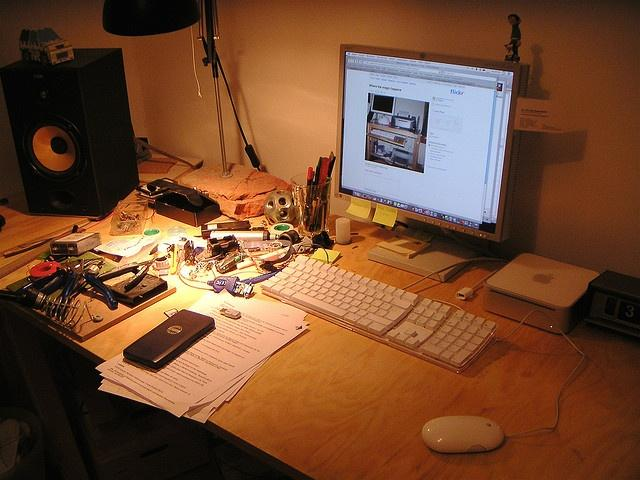AIO PC-Monitor-TV: (334, 42, 530, 243)
